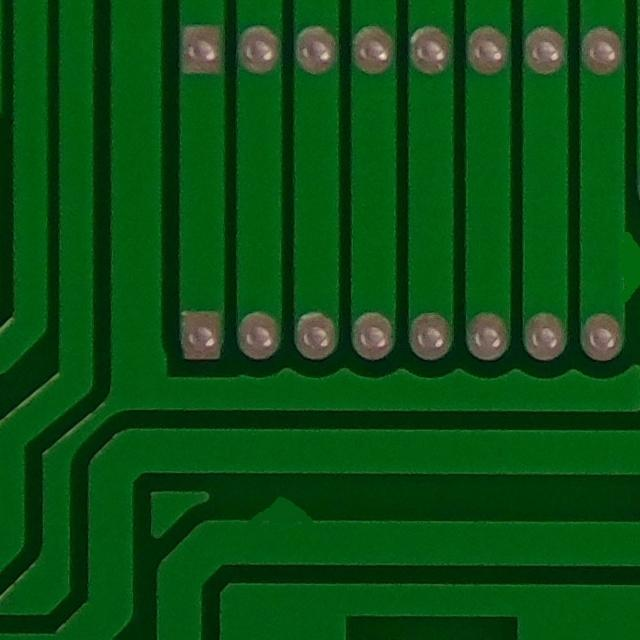spur: (248, 486, 324, 544), (597, 221, 640, 313)
